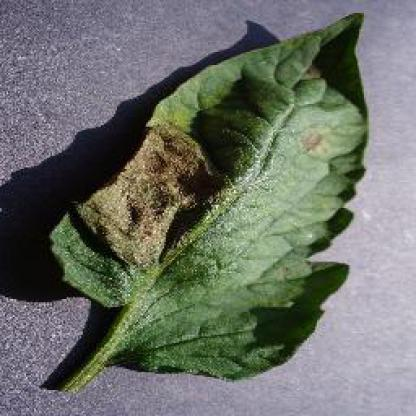bad leaf: (10, 0, 399, 402)
